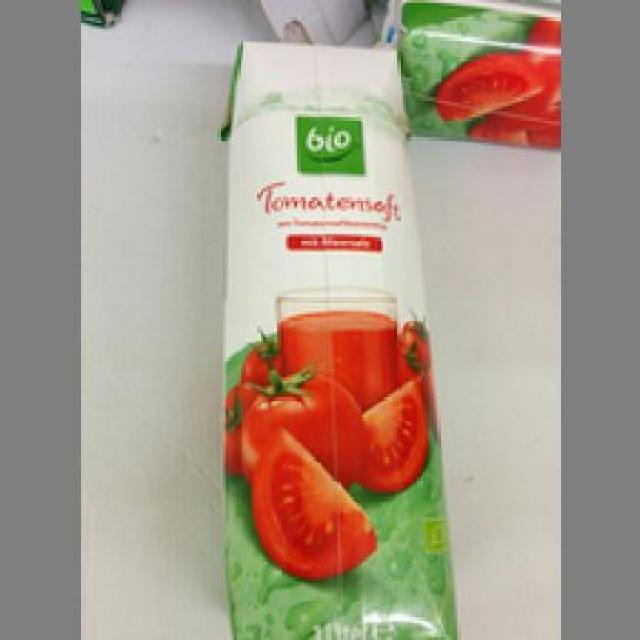Juice: (217, 34, 454, 637)
